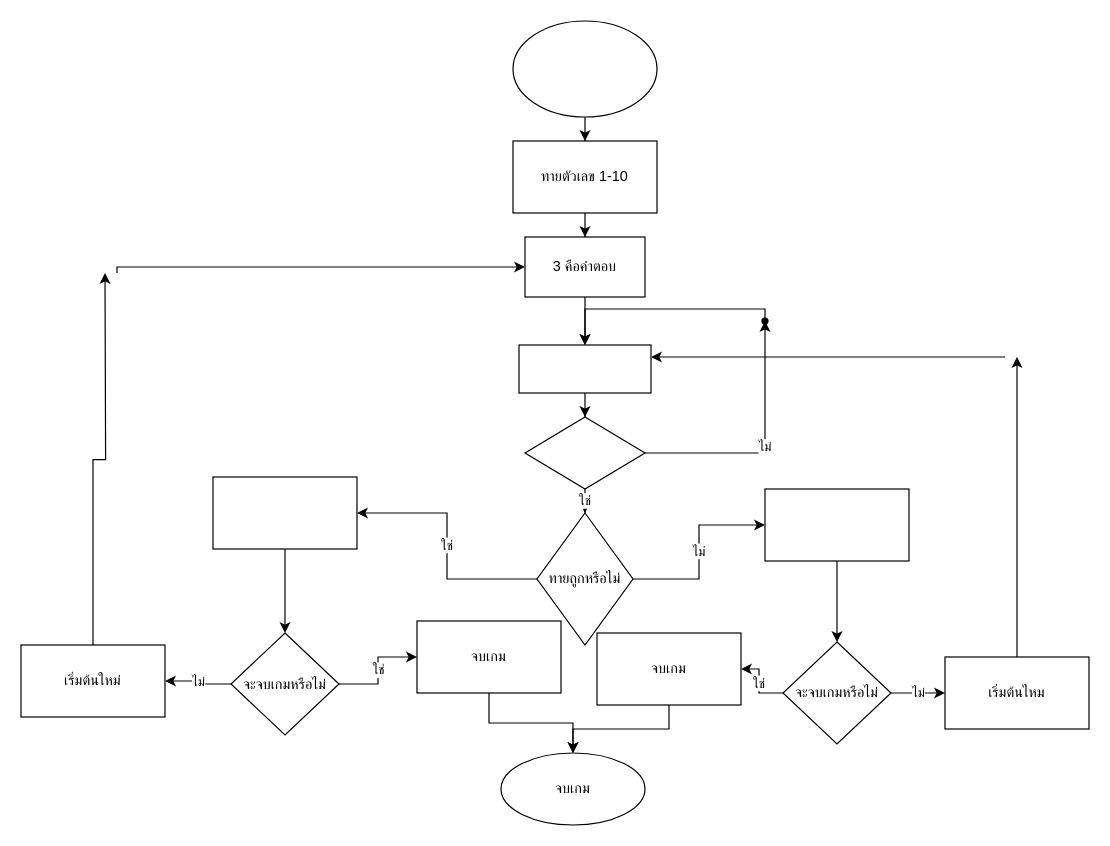
The diagram is 1110 pixels wide and 846 high, and some of its shapes have lost their labels. Here are the shapes that lost their labels. From the top down, the centre of each, then its label:
point 584,68: เริ่มต้นเกม
point 584,368: กำหนดตัวเลฃ
point 584,452: ใช่ 1-10หรือไม่
point 284,512: ยินดีด้วยคุณตอบถูก
point 836,524: คุณทายไม่ถูกคำตอบที่ถูกคือ 3
